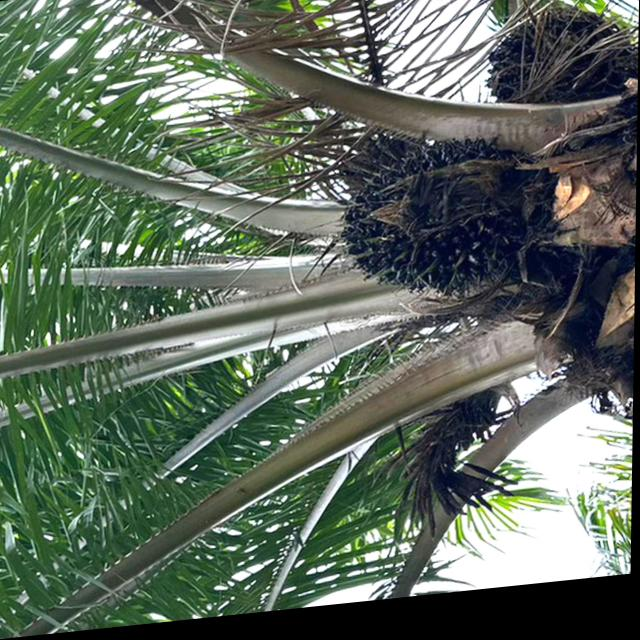unripe: (328, 132, 549, 324), (486, 10, 637, 127)
